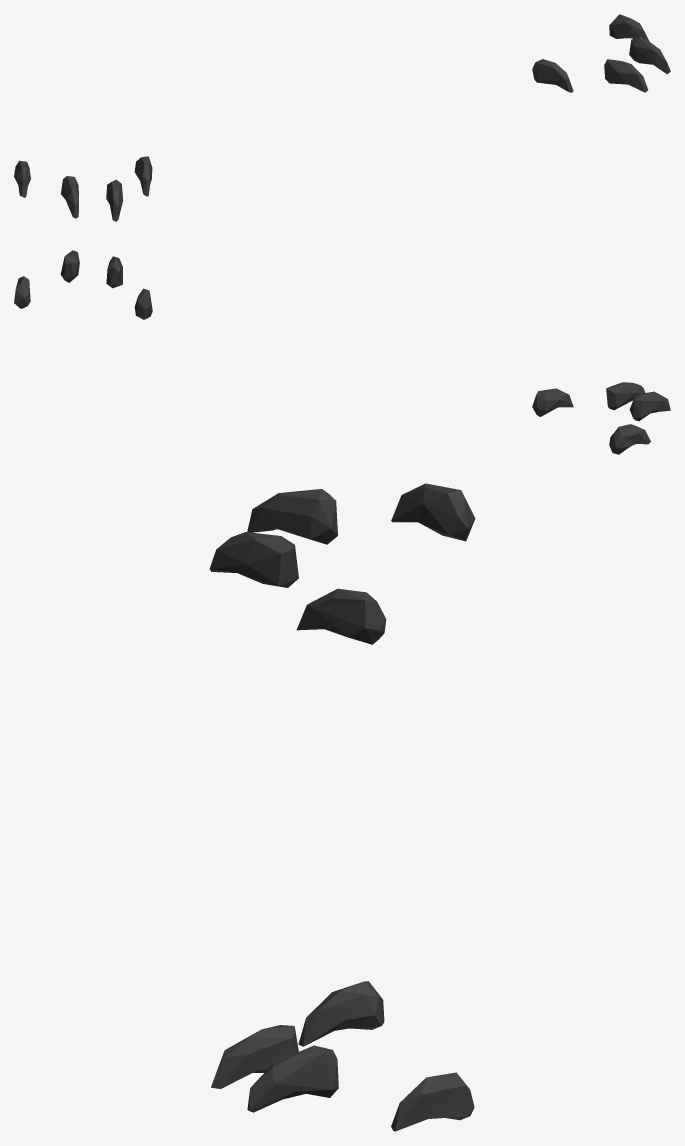
The model's file is HL_nails.glb.
3 renders of one model, top to bottom at view 1: azimuth 30°, elevation 25°; view 2: azimuth 150°, elevation 25°; view 3: azimuth 270°, elevation 25°, orthographic. The views are drawn at different scales.
Parts seen in each view (by area): view 1: HL_nails; view 2: HL_nails; view 3: HL_nails.
Part boxes in pixels (bbox=[...]): HL_nails: bbox=[14, 14, 670, 221]; HL_nails: bbox=[14, 250, 670, 454]; HL_nails: bbox=[209, 483, 475, 1131].
Size of the model in its own units: 0.00732 by 0.000385 by 0.00134.
1 material, 1 textured.
